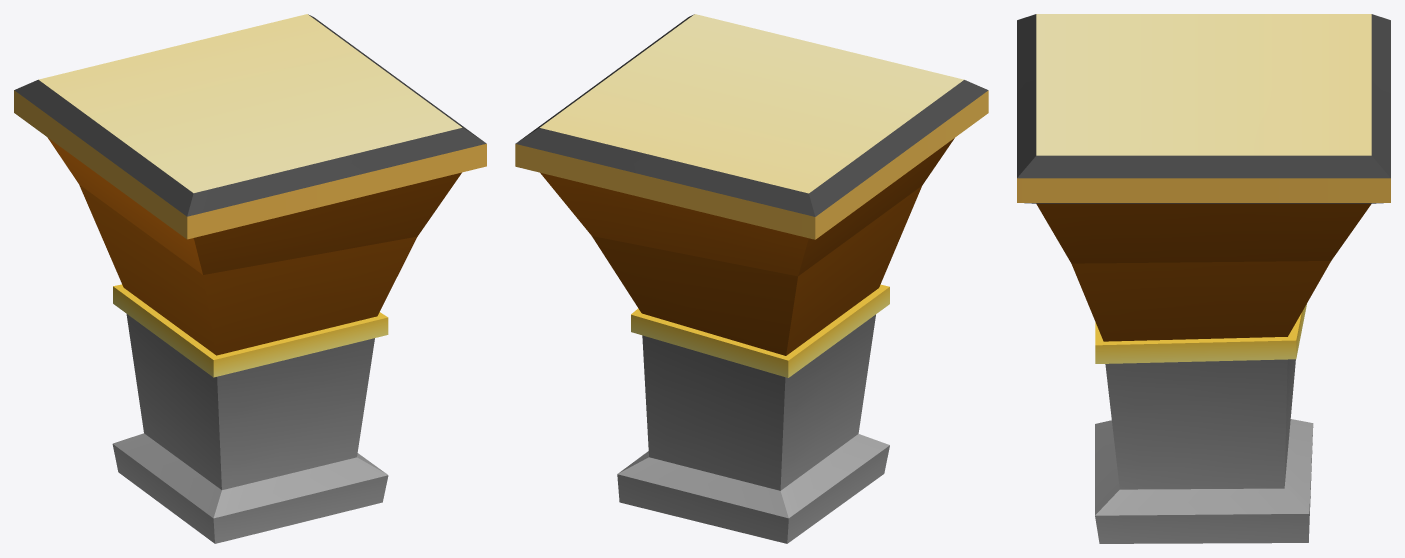
File: Museum_Display_Square.fbx
3 views of the same model, side by side, from view 1: azimuth 30°, elevation 25°; view 2: azimuth 150°, elevation 25°; view 3: azimuth 270°, elevation 25° (orthographic). The views are drawn at different scales.
Parts seen in each view (by area): view 1: Cube.001, Cube.002, Cube.003; view 2: Cube.001, Cube.002, Cube.003; view 3: Cube.001, Cube.002, Cube.003.
Boxes of the visible parts, box(x1,y1,x2,y2) form: Cube.001: box(14, 14, 486, 377); Cube.002: box(126, 314, 374, 489); Cube.003: box(112, 433, 388, 543); Cube.001: box(515, 14, 988, 377); Cube.002: box(642, 314, 875, 490); Cube.003: box(617, 434, 889, 543); Cube.001: box(1017, 14, 1390, 363); Cube.002: box(1105, 359, 1295, 489); Cube.003: box(1095, 419, 1313, 543).
Bounding box in the file's own units: 99.7 × 123 × 99.7.
